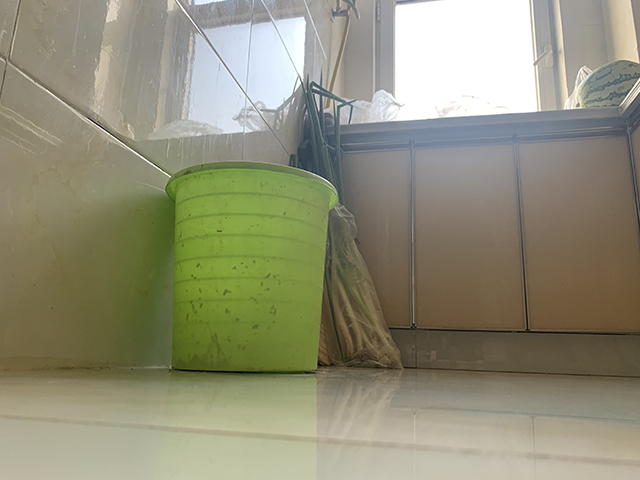cabinet: (412, 118, 639, 376)
trashcan: (163, 159, 341, 375)
